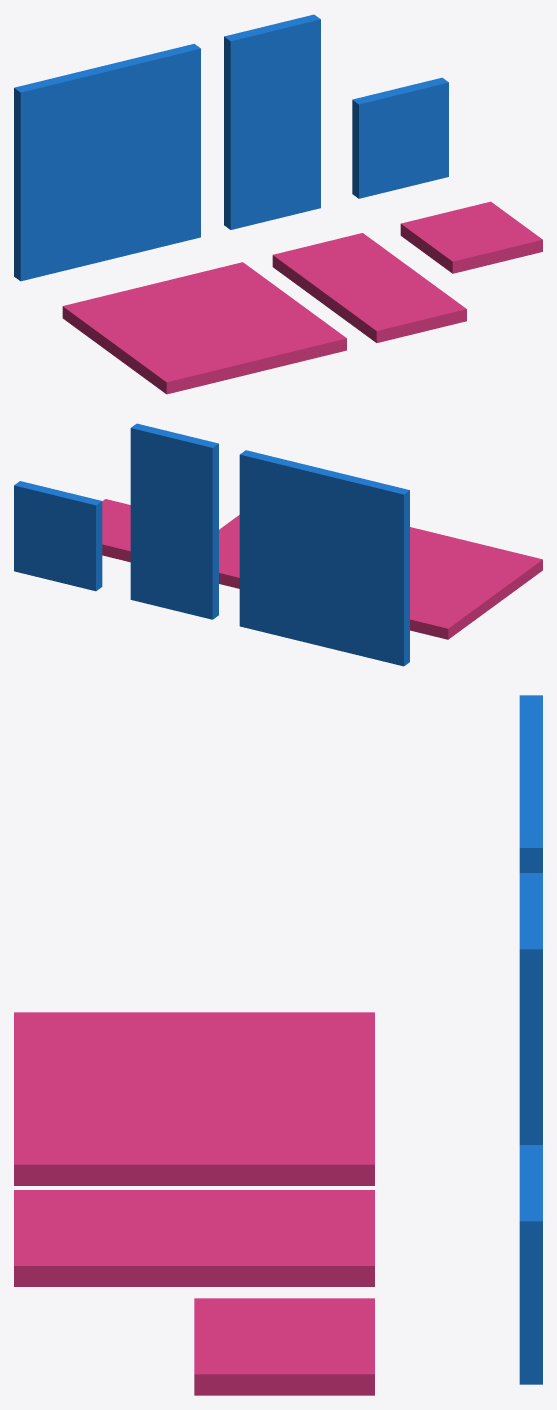
File: f_modular.fbx
The picture shows the model from 3 angles, top to bottom: view 1: azimuth 30°, elevation 25°; view 2: azimuth 150°, elevation 25°; view 3: azimuth 270°, elevation 25°; orthographic projection. The views are drawn at different scales.
Visible parts, largest first — view 1: Cube.008, Cube.001, Cube.009, Cube.003, Cube.010, Cube.004; view 2: Cube.008, Cube.009, Cube.001, Cube.010, Cube.004, Cube.003; view 3: Cube.001, Cube.003, Cube.004, Cube.009, Cube.010, Cube.008.
Part boxes in pixels (box(x1,y1,x2,y2)): Cube.008: box(14, 43, 200, 281); Cube.001: box(62, 262, 346, 394); Cube.009: box(224, 14, 320, 229); Cube.003: box(272, 233, 466, 342); Cube.010: box(352, 77, 448, 198); Cube.004: box(400, 201, 542, 273); Cube.008: box(239, 450, 409, 666); Cube.009: box(130, 423, 218, 619); Cube.001: box(410, 527, 542, 639); Cube.010: box(14, 481, 102, 591); Cube.004: box(102, 499, 130, 562); Cube.003: box(219, 515, 239, 588); Cube.001: box(14, 1012, 374, 1185); Cube.003: box(14, 1190, 374, 1286); Cube.004: box(194, 1298, 374, 1395); Cube.009: box(519, 873, 542, 1144); Cube.010: box(519, 1145, 542, 1384); Cube.008: box(519, 695, 542, 872).
Size of the model in its own units: 475 by 207 by 293.
